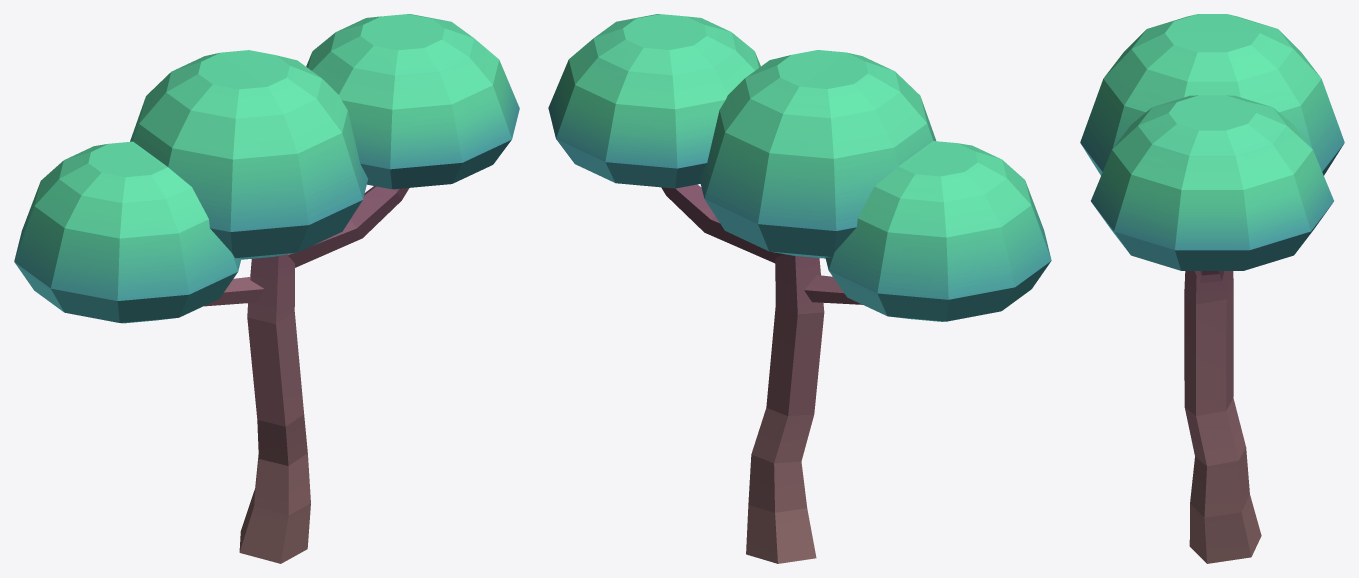
Rendered from long_tree_2.gltf.
The picture shows the model from 3 angles, left to right: view 1: azimuth 30°, elevation 25°; view 2: azimuth 150°, elevation 25°; view 3: azimuth 270°, elevation 25°; orthographic projection. The views are drawn at different scales.
Parts seen in each view (by area): view 1: Object_4; view 2: Object_4; view 3: Object_4.
Boxes of the visible parts, x1,y1,x2,y2 form: Object_4: (14,14,519,563); Object_4: (548,14,1051,563); Object_4: (1080,14,1344,563).
Bounding box in the file's own units: 9.7 × 9.73 × 4.66.
Materials: 1 (1 with a texture image).
